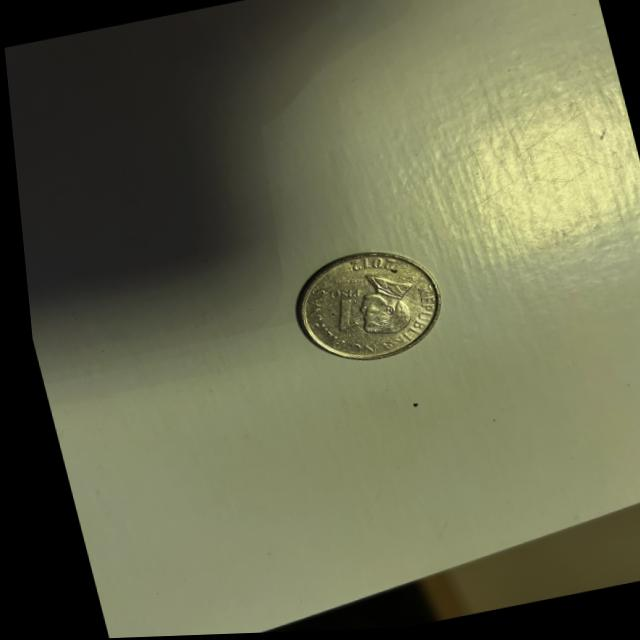1_Old_Front: (316, 287, 363, 334)
